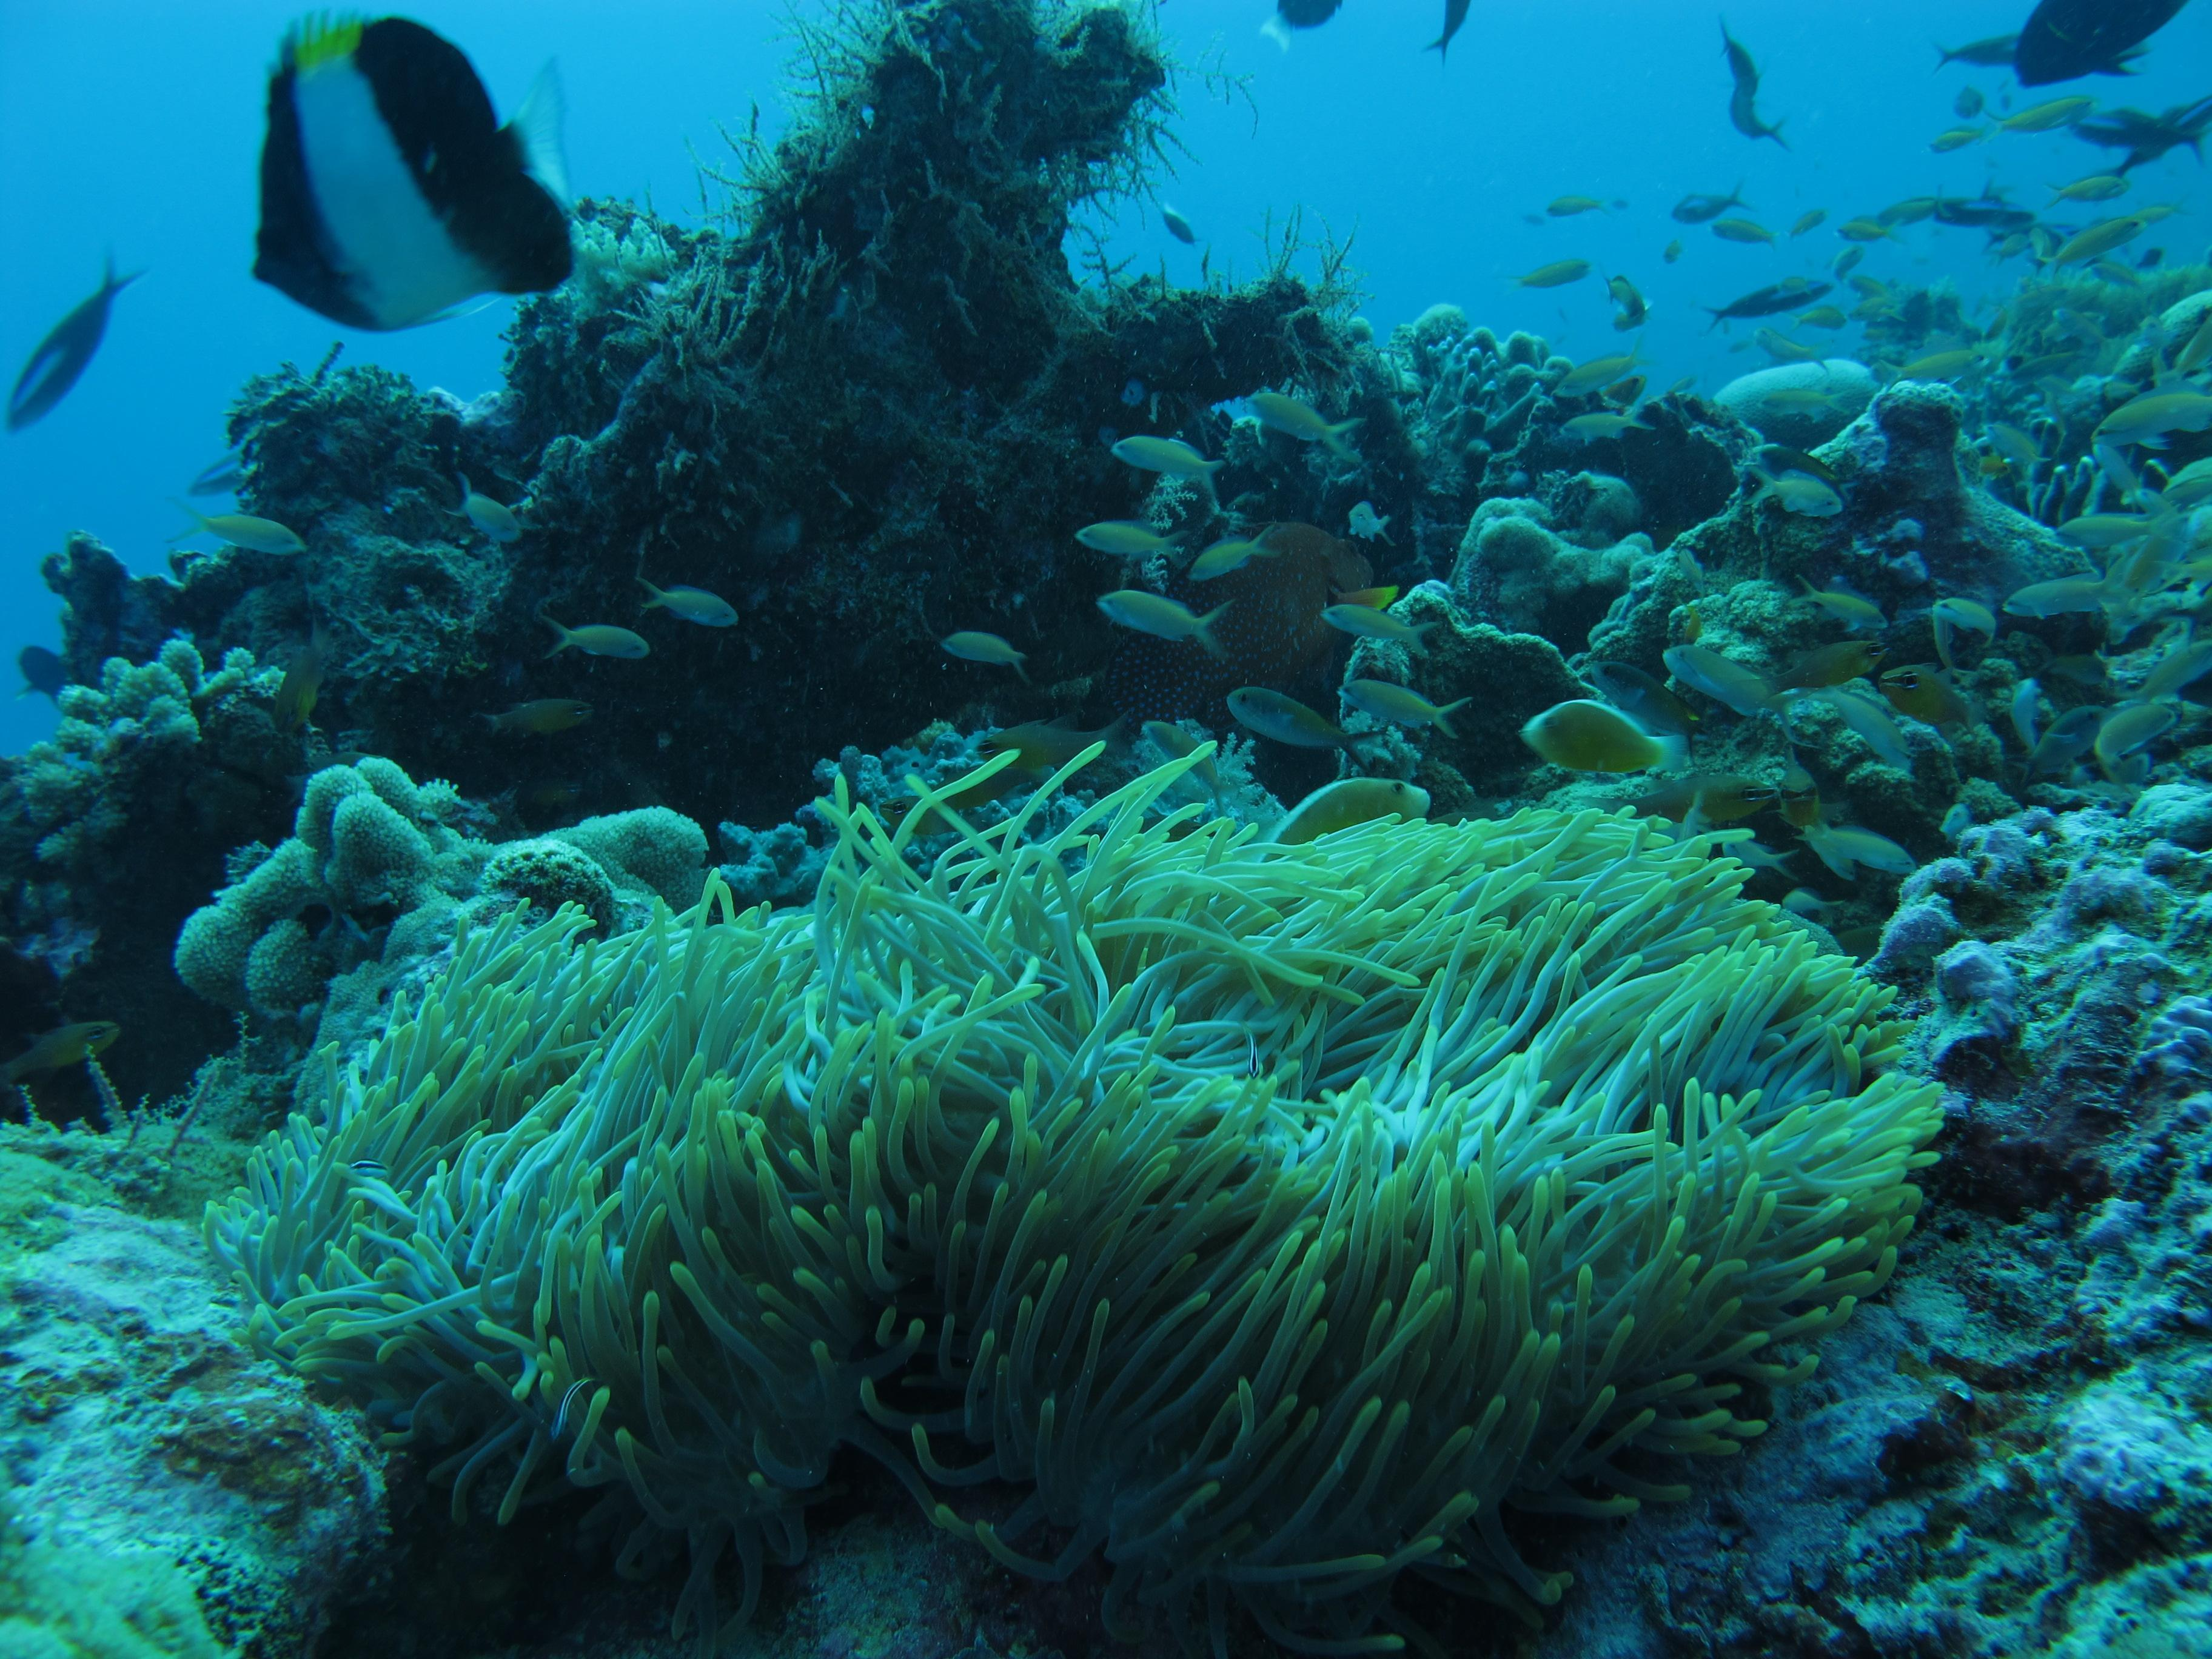Amphiprion akallopsis: (1494, 673, 1695, 814), (1649, 605, 1803, 741), (1259, 767, 1444, 873), (1204, 647, 1357, 769), (0, 983, 139, 1115), (155, 479, 322, 580), (249, 638, 352, 788), (1237, 361, 1362, 481), (1085, 404, 1230, 505), (1735, 430, 1855, 542), (1083, 582, 1249, 662), (469, 676, 606, 769), (1306, 582, 1461, 662), (1763, 631, 1897, 713), (1878, 647, 1982, 751), (617, 561, 752, 641), (524, 598, 650, 676), (1170, 523, 1296, 599), (1068, 509, 1193, 580), (2031, 209, 2153, 282), (1538, 343, 1660, 411), (1498, 242, 1594, 324), (916, 622, 1042, 683), (1599, 265, 1656, 347), (1534, 183, 1627, 230), (1714, 209, 1771, 267)
